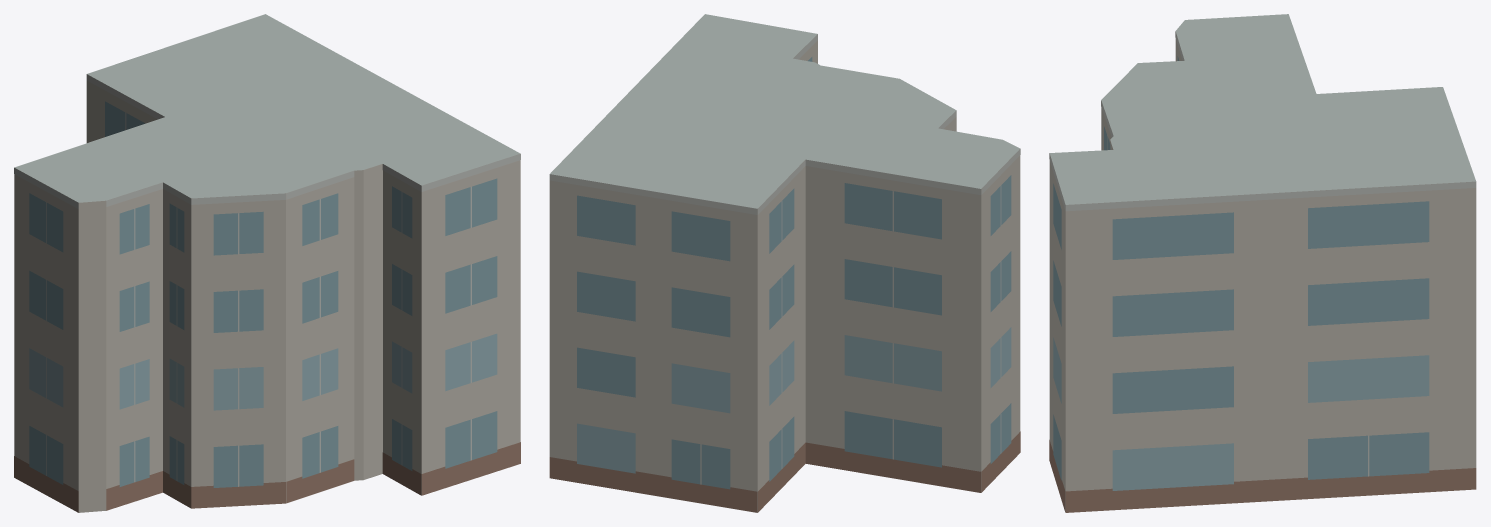
Rendered from survey-upis-33023427.glb.
3 views of the same model, side by side, from view 1: azimuth 30°, elevation 25°; view 2: azimuth 150°, elevation 25°; view 3: azimuth 270°, elevation 25° (orthographic).
Visible parts, largest first — view 1: survey-upis-33023427.tmp; view 2: survey-upis-33023427.tmp; view 3: survey-upis-33023427.tmp.
Part boxes in pixels (<box>): survey-upis-33023427.tmp: <box>14,14,520,512</box>; survey-upis-33023427.tmp: <box>549,14,1020,512</box>; survey-upis-33023427.tmp: <box>1049,14,1476,512</box>.
Size of the model in its own units: 15.57 by 11.7 by 14.71.
